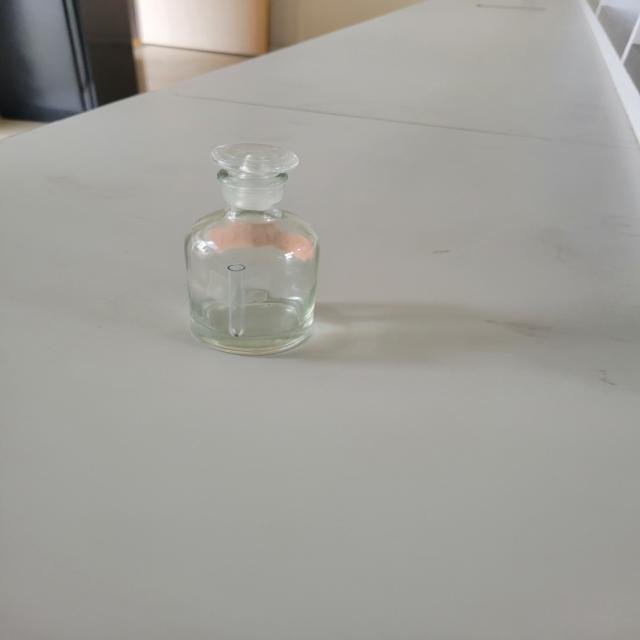Reagent_Bottle: (112, 104, 410, 371)
